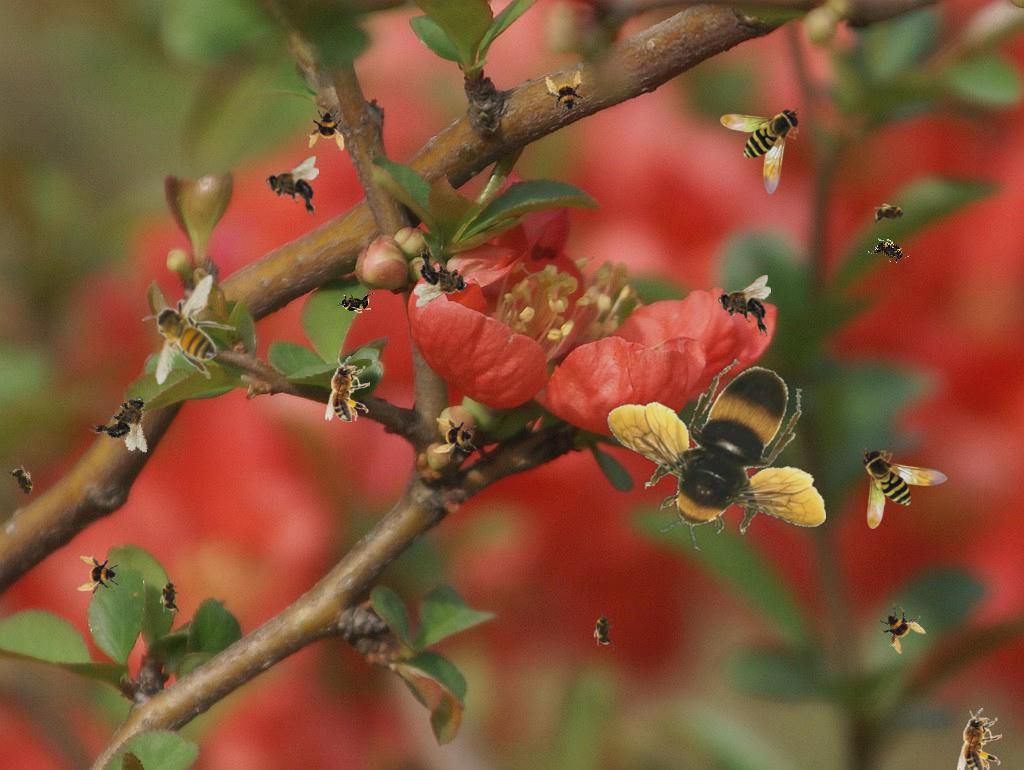Bee: (606, 359, 826, 550), (142, 274, 236, 385), (720, 107, 802, 195), (860, 447, 948, 529), (87, 384, 164, 456), (869, 595, 933, 659), (412, 245, 471, 311), (266, 156, 319, 218), (718, 275, 771, 337), (537, 66, 593, 122), (325, 356, 370, 422), (957, 708, 1002, 770), (433, 416, 477, 460), (77, 554, 121, 598), (307, 107, 351, 151), (4, 459, 42, 505), (867, 232, 913, 270), (335, 292, 375, 314), (870, 203, 910, 225), (159, 576, 181, 616), (593, 610, 615, 650)
